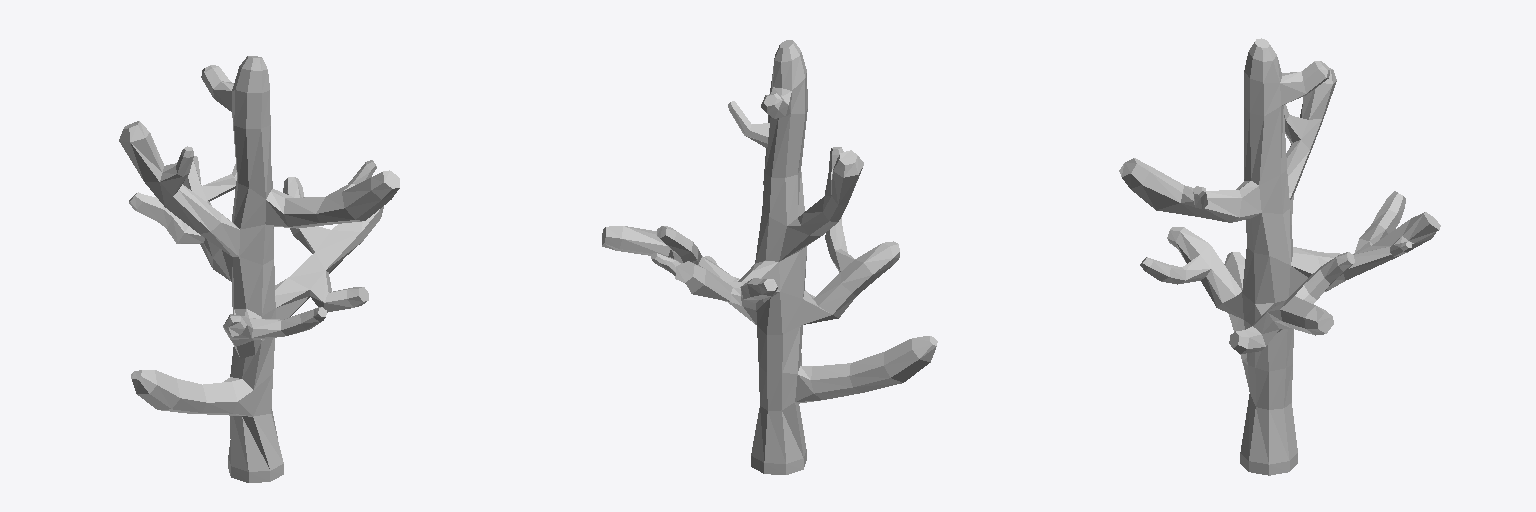
The model's file is Coral_A_01_LOD2.obj.
3 views of the same model, side by side, from view 1: azimuth 30°, elevation 25°; view 2: azimuth 150°, elevation 25°; view 3: azimuth 270°, elevation 25° (orthographic).
Parts seen in each view (by area): view 1: Coral_A_01_LOD2_Cylinder.420; view 2: Coral_A_01_LOD2_Cylinder.420; view 3: Coral_A_01_LOD2_Cylinder.420.
Boxes of the visible parts, <box> form: Coral_A_01_LOD2_Cylinder.420: <box>119,56,399,482</box>; Coral_A_01_LOD2_Cylinder.420: <box>602,40,937,474</box>; Coral_A_01_LOD2_Cylinder.420: <box>1119,38,1440,475</box>.
Bounding box in the file's own units: 7.46 × 10.21 × 7.08.